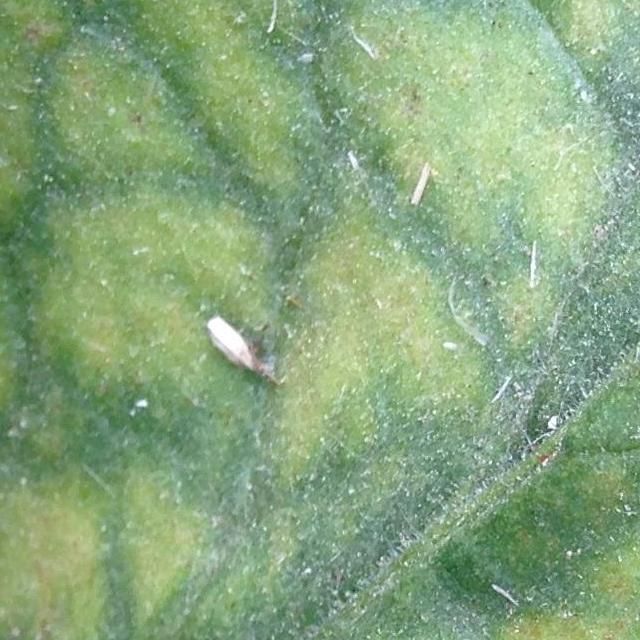Tomato Early blight leaf: (468, 0, 640, 571)
